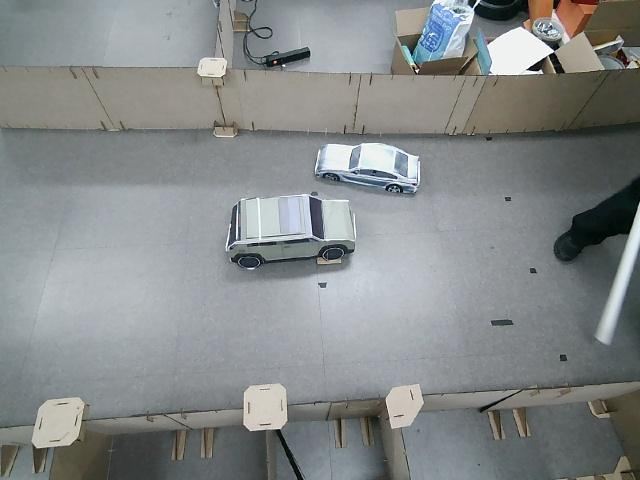car: (215, 193, 368, 276), (310, 138, 430, 197)
